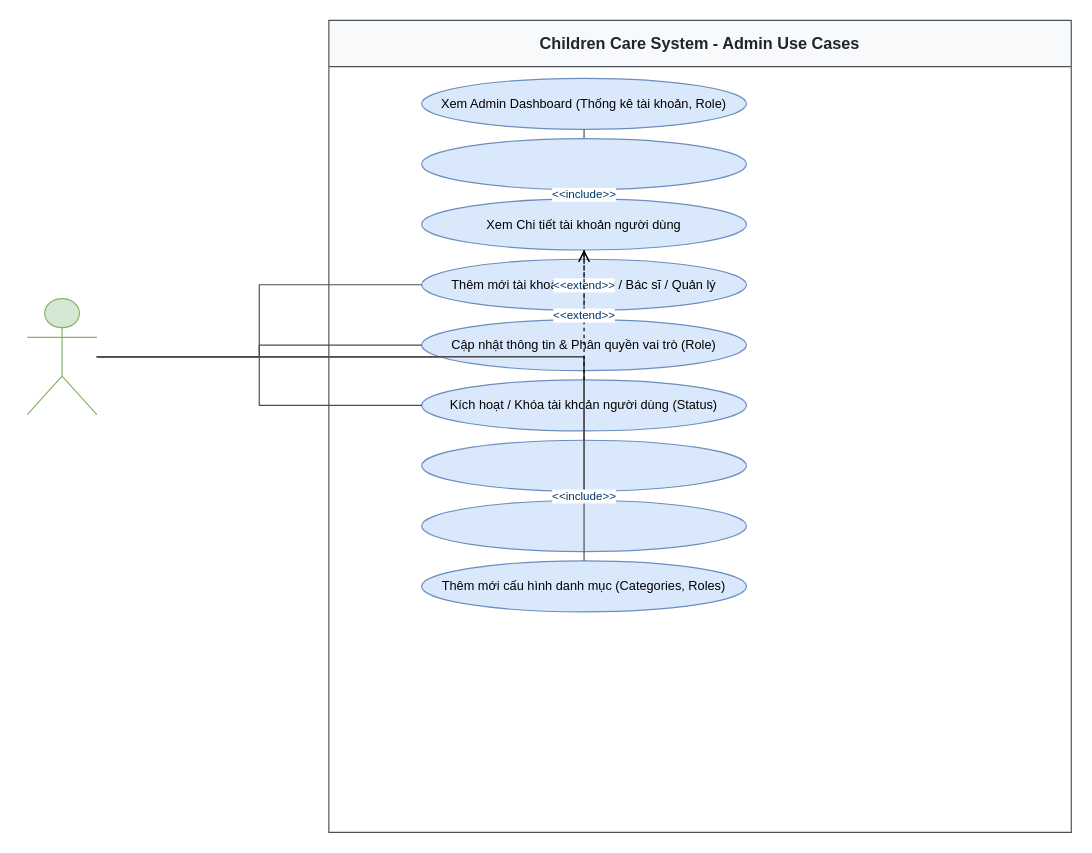
This 1092x853 diagram has some shape labels left out. The box of each missing label's shape, as (x1, y1, x2, y2) in pixels:
Quản lý Cài đặt hệ thống (Settings List): (420, 439, 746, 491)
Quản lý Người dùng (Users List: Tìm kiếm, Lọc): (420, 137, 746, 190)
Quản trị viên (Admin): (26, 298, 97, 415)
Xem & Cập nhật chi tiết cấu hình (Setting Details): (420, 499, 746, 552)
